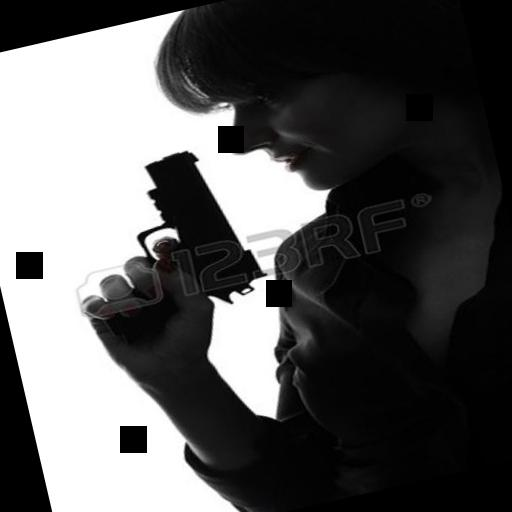Handgun: (36, 127, 278, 356)
